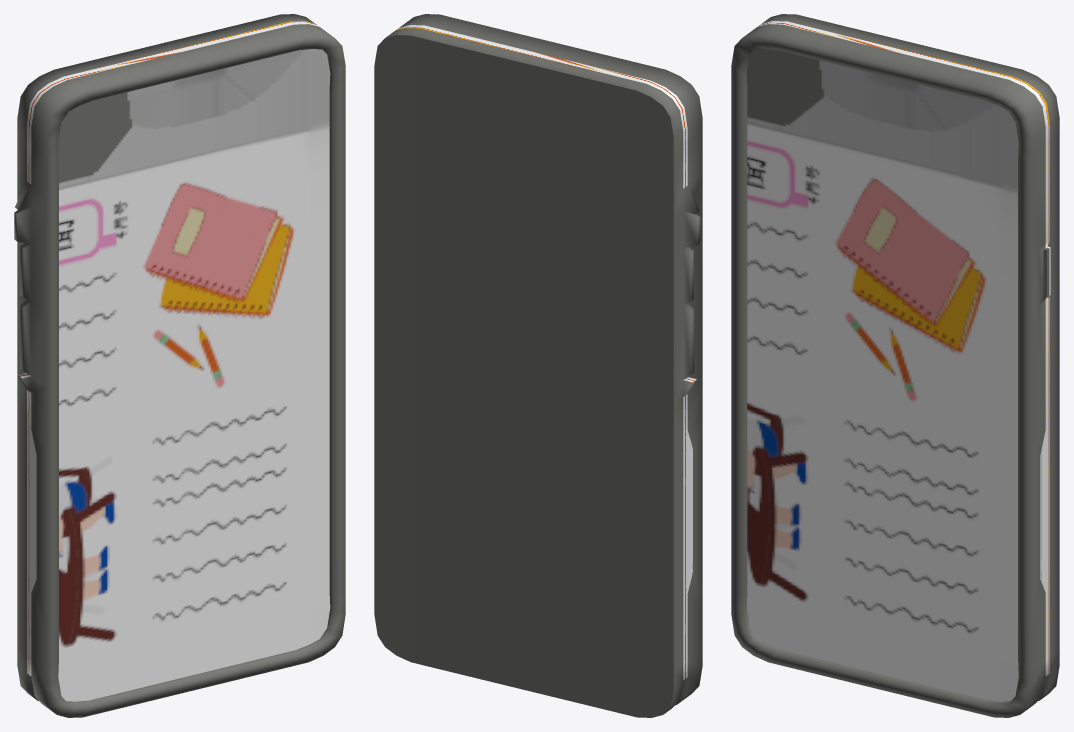
File: phone.FBX
3 views of the same model, side by side, from view 1: azimuth 30°, elevation 25°; view 2: azimuth 150°, elevation 25°; view 3: azimuth 330°, elevation 25° (orthographic).
Visible parts, largest first — view 1: Phone; view 2: Phone; view 3: Phone.
Boxes of the visible parts, bbox=[...] form: Phone: bbox=[14, 14, 345, 717]; Phone: bbox=[374, 14, 702, 717]; Phone: bbox=[731, 14, 1059, 717].
Bounding box in the file's own units: 0.0533 × 0.1013 × 0.00844.
